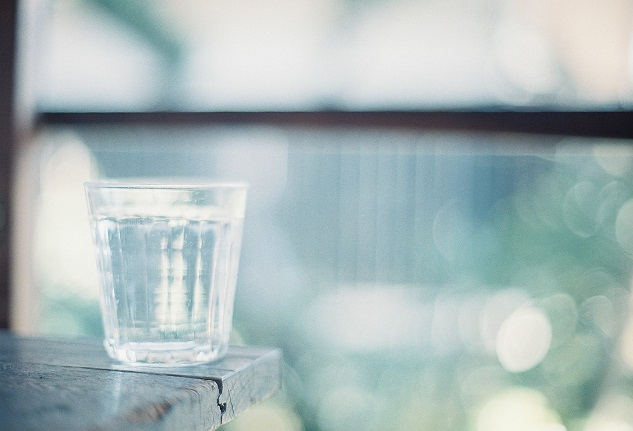glass of water: (85, 178, 244, 363)
